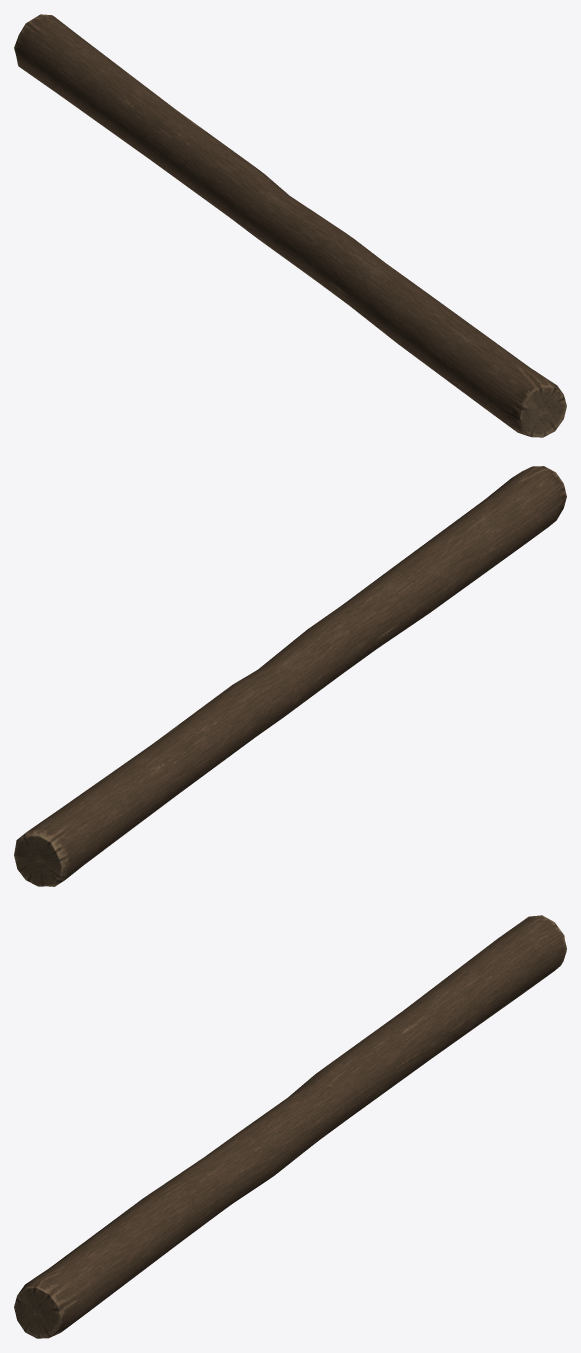
Rendered from SM_Log.fbx.
3 renders of one model, top to bottom at view 1: azimuth 30°, elevation 25°; view 2: azimuth 150°, elevation 25°; view 3: azimuth 330°, elevation 25°, orthographic.
Parts seen in each view (by area): view 1: SM_Log_LOD0; view 2: SM_Log_LOD0; view 3: SM_Log_LOD0.
Boxes of the visible parts, box(x1,y1,x2,y2) form: SM_Log_LOD0: box(14, 14, 566, 437); SM_Log_LOD0: box(14, 466, 566, 886); SM_Log_LOD0: box(14, 915, 566, 1338).
Size of the model in its own units: 27.32 by 436 by 27.26.
1 material, 1 textured.
